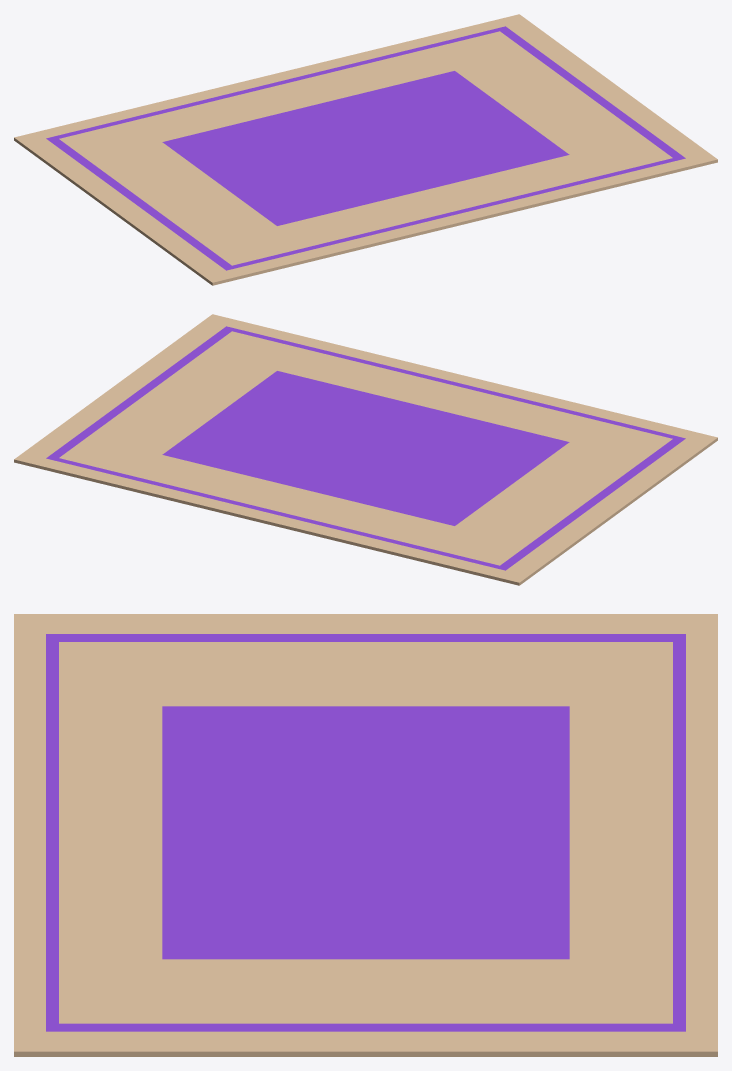
The model's file is rugRectangle.fbx.
3 renders of one model, top to bottom at view 1: azimuth 30°, elevation 25°; view 2: azimuth 150°, elevation 25°; view 3: azimuth 270°, elevation 25°, orthographic. The views are drawn at different scales.
Parts seen in each view (by area): view 1: Rug - Rectangle; view 2: Rug - Rectangle; view 3: Rug - Rectangle.
Part boxes in pixels (bbox=[...]): Rug - Rectangle: bbox=[14, 14, 717, 285]; Rug - Rectangle: bbox=[14, 314, 717, 585]; Rug - Rectangle: bbox=[14, 614, 717, 1056].
Bounding box in the file's own units: 176 × 119 × 1.
